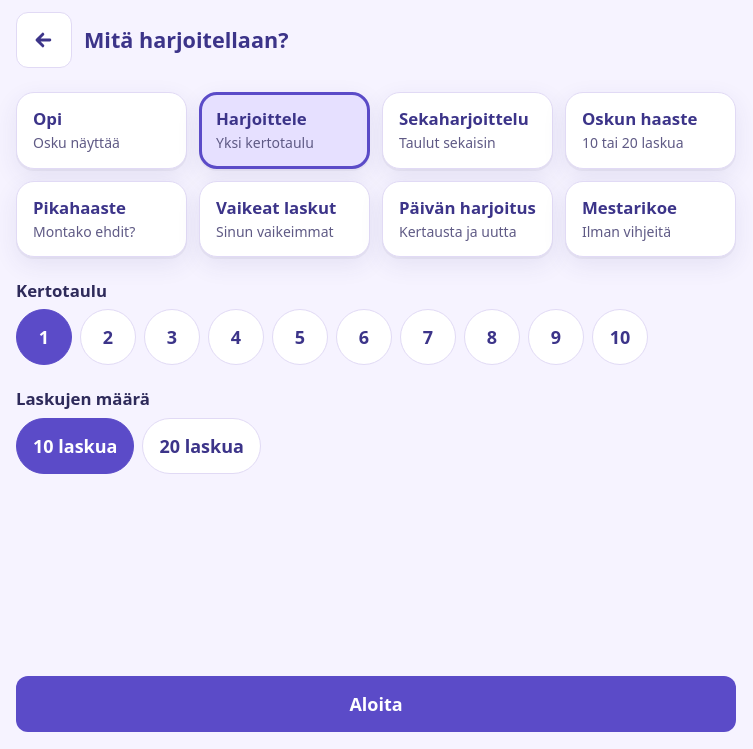
Test case: Mode selection › shows only the options the mode needs
The width and height of the screenshot is (753, 749).
Click the button "Pikahaaste Montako ehdit?".
click(102, 219)  # box [16,181,187,257]
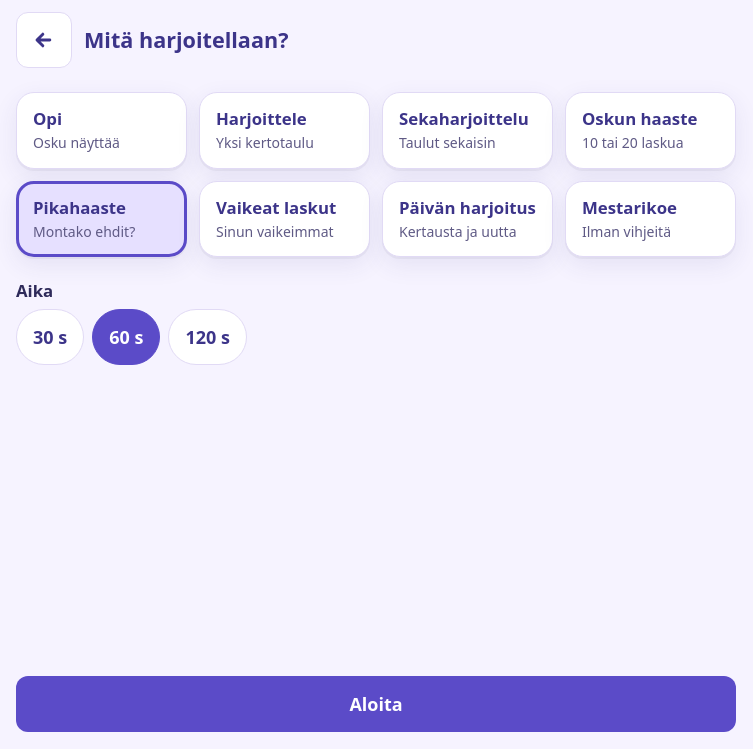
Check: the element named "Aika" is shown, box [16,309,247,365]
